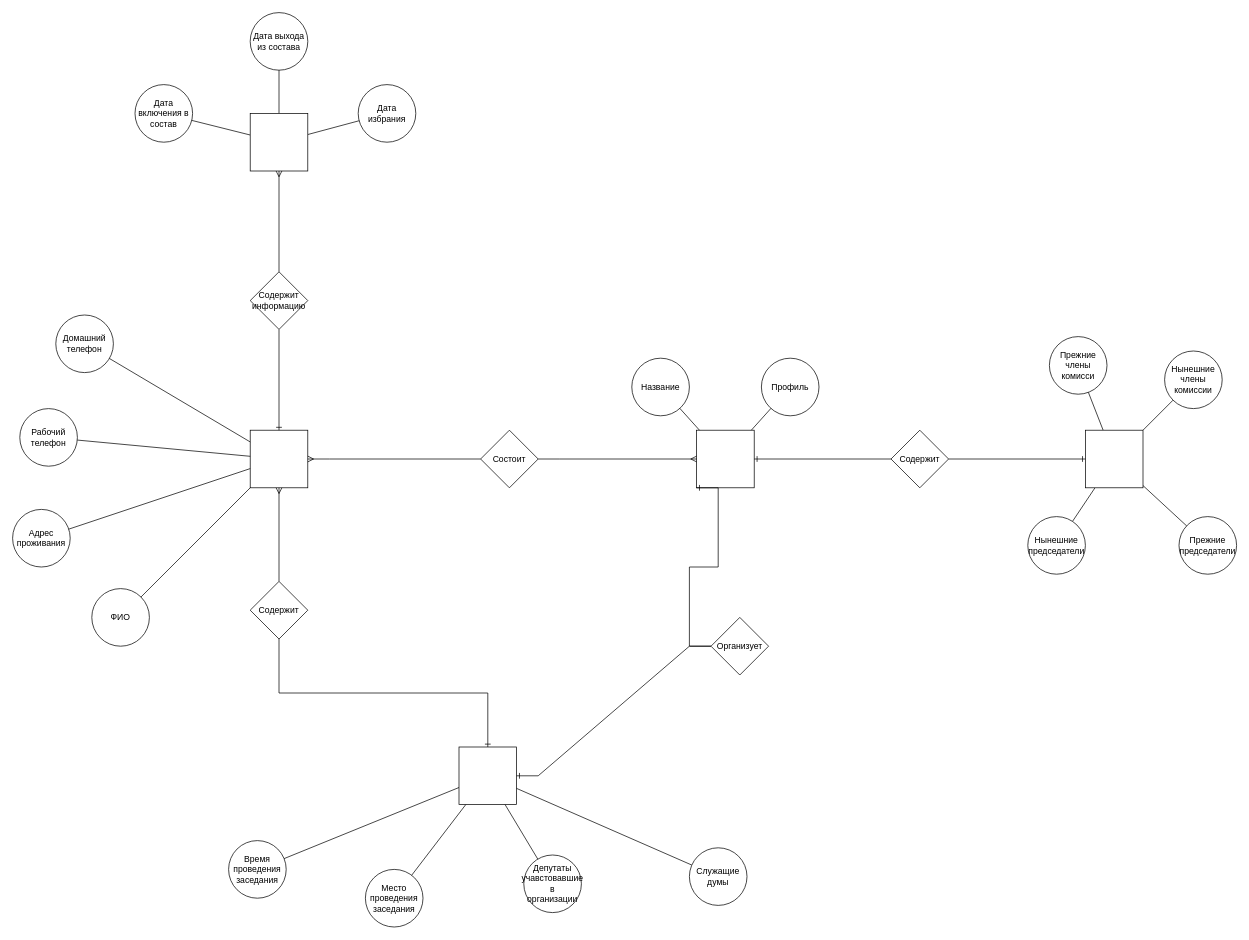
Some shapes in this 1249 by 940 pixel diagram are drawn without their labels. Here are the shapes that lost their labels. From the top down, the centre of each, then its label:
the point at 278,142: История назначения
the point at 278,458: Член думы
the point at 725,458: Комиссия
the point at 1114,458: Состав
the point at 487,775: Организация
